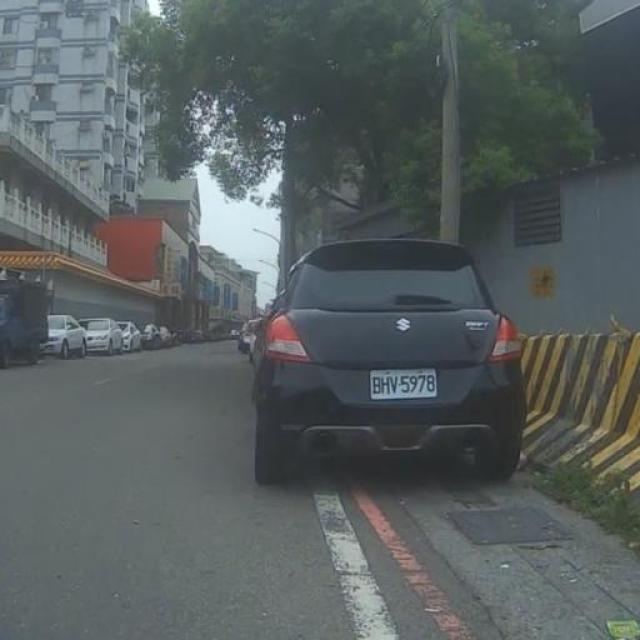Legalparking: (241, 227, 568, 497), (0, 299, 188, 390)
